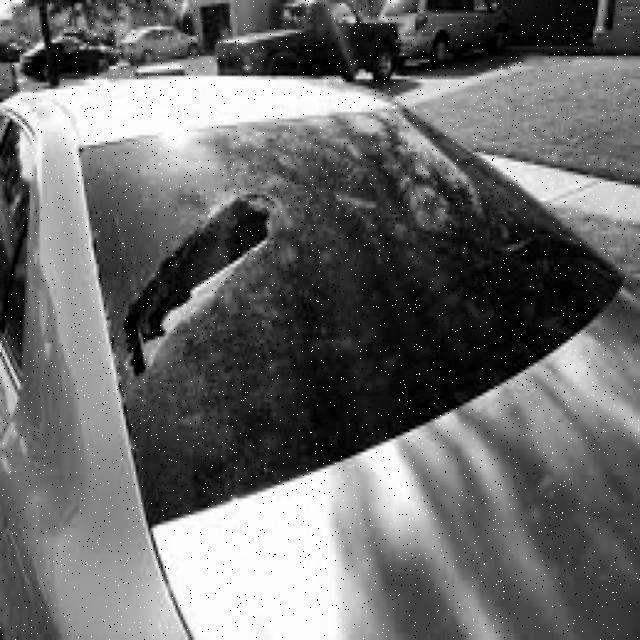Rear-windscreen-Damage: (54, 112, 630, 541)
